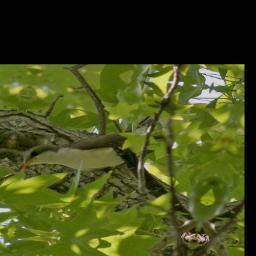Cuckoo: (15, 100, 172, 190)
